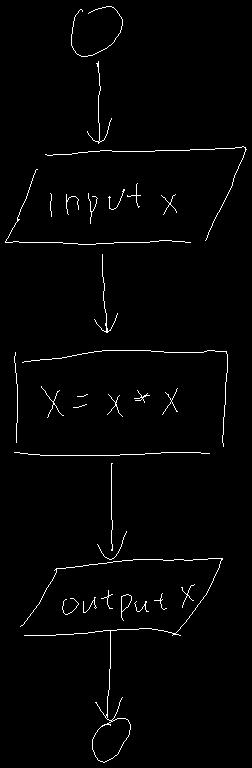arrow: (97, 463, 126, 559), (95, 630, 122, 720), (87, 61, 111, 143), (94, 254, 117, 332)
connection: (71, 6, 122, 56), (92, 718, 130, 762)
data: (5, 146, 246, 244), (20, 558, 222, 635)
process: (14, 350, 227, 455)
text: (50, 183, 176, 223), (62, 584, 194, 620), (41, 386, 177, 417)
